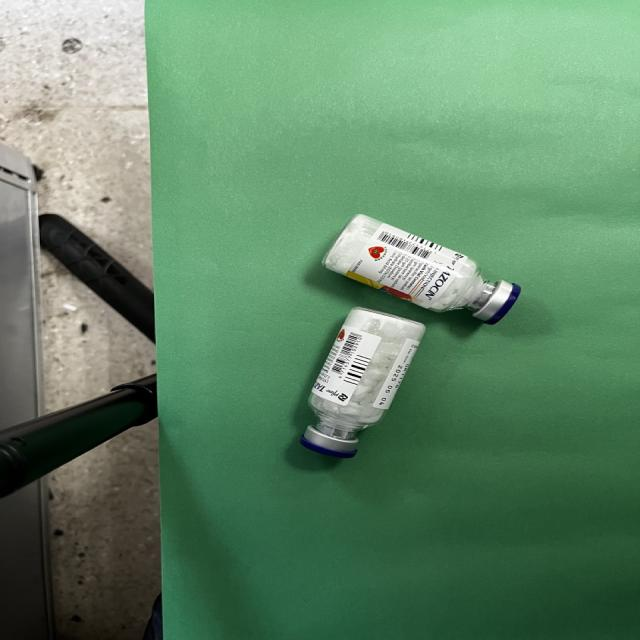Vials: (323, 214, 520, 324), (300, 308, 425, 458)
